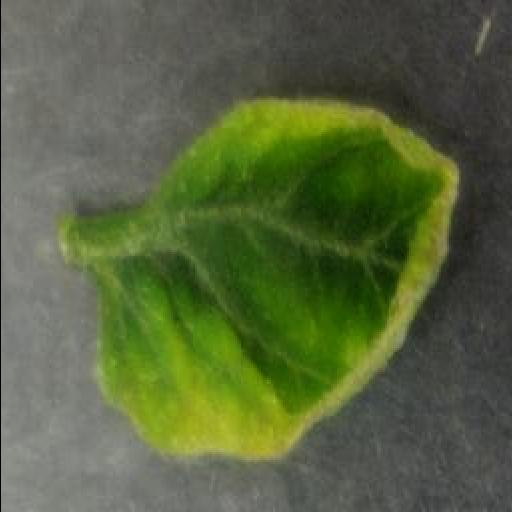disease_tomato: (90, 96, 464, 466)
